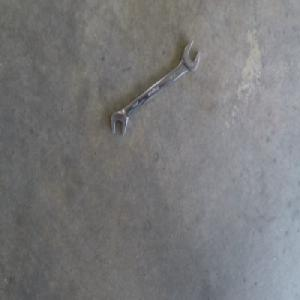Wrench: (112, 41, 202, 136)
